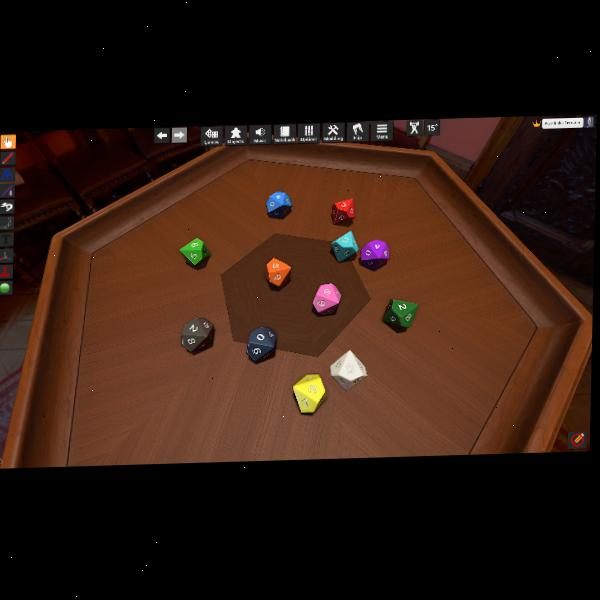d10: (330, 350, 367, 391), (292, 374, 324, 414), (181, 317, 214, 353), (382, 296, 415, 327), (246, 326, 276, 360), (361, 238, 391, 269), (179, 237, 209, 267), (312, 282, 340, 314), (330, 230, 358, 262), (266, 190, 293, 219), (265, 257, 291, 286), (330, 198, 354, 224)
